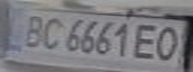1: (109, 19, 136, 57)
6: (60, 16, 84, 53), (78, 17, 100, 55), (93, 18, 115, 56)
B: (15, 11, 51, 48)
C: (36, 13, 66, 51)
E: (130, 20, 163, 60)
O: (148, 24, 187, 62)
